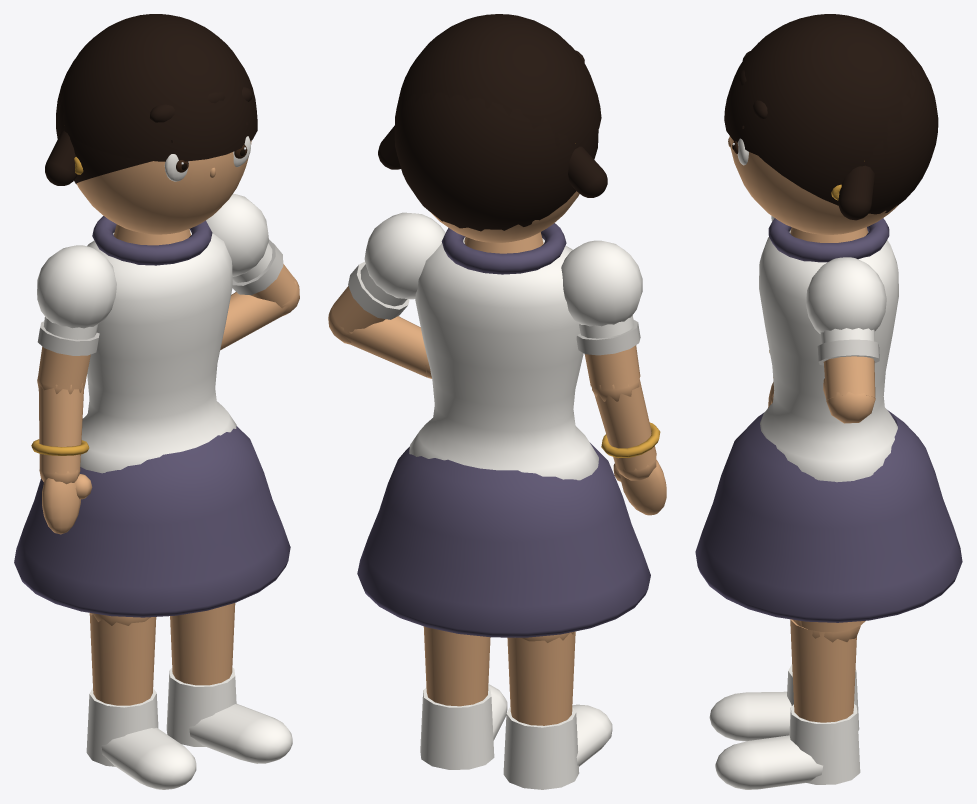
File: 22-sofia.glb
3 views of the same model, side by side, from view 1: azimuth 30°, elevation 25°; view 2: azimuth 150°, elevation 25°; view 3: azimuth 270°, elevation 25° (orthographic). The views are drawn at different scales.
Parts seen in each view (by area): view 1: Sofia, skull, armR, elbow (×2), armL; view 2: Sofia, skull, armR, elbow (×2), armL; view 3: Sofia, skull, armL, elbow.
Boxes of the visible parts, x1,y1,x2,y2 form: Sofia: (14, 216, 292, 789); skull: (45, 14, 257, 234); armR: (37, 245, 116, 389); elbow (×2): (31, 277, 299, 534); armL: (206, 193, 296, 308); Sofia: (357, 223, 650, 789); skull: (378, 14, 607, 242); armR: (561, 240, 642, 390); elbow (×2): (328, 304, 666, 515); armL: (332, 212, 445, 334); Sofia: (695, 218, 962, 789); skull: (724, 14, 938, 234); armL: (806, 257, 886, 399); elbow: (823, 378, 875, 423).
Bounding box in the file's own units: 0.4191 × 1.01 × 0.3325.
